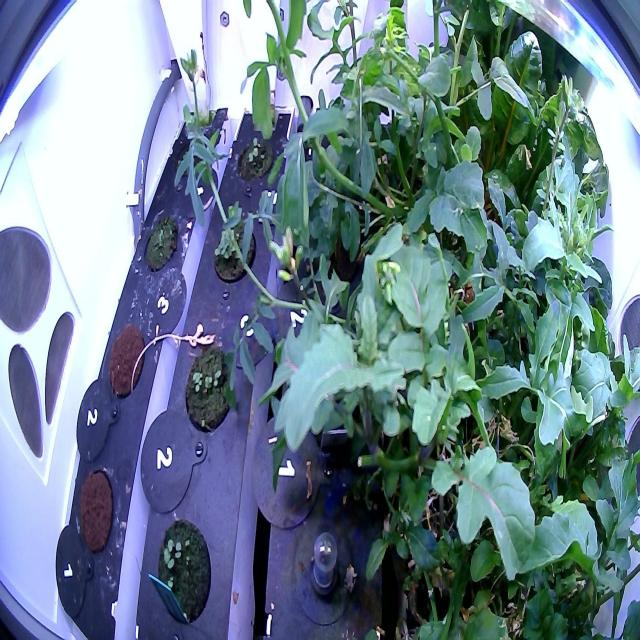germination: (151, 516, 215, 630), (182, 340, 234, 438), (211, 210, 256, 286), (142, 208, 184, 278), (233, 128, 277, 188)
pod: (72, 460, 122, 558), (104, 317, 150, 403)
